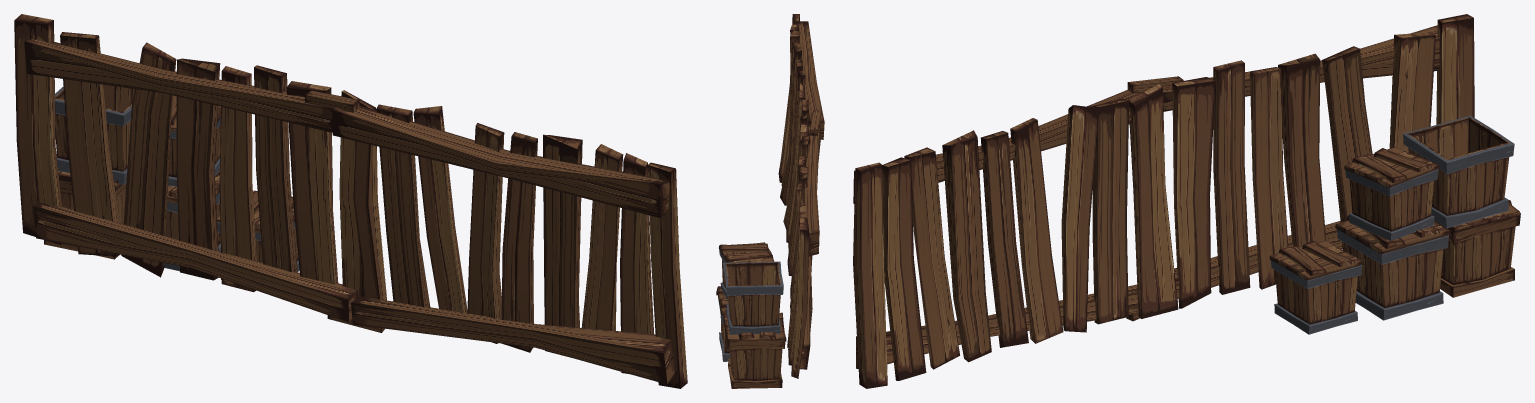
Rendered from RoomWoodDecorations.fbx.
3 views of the same model, side by side, from view 1: azimuth 30°, elevation 25°; view 2: azimuth 150°, elevation 25°; view 3: azimuth 270°, elevation 25° (orthographic). The views are drawn at different scales.
Parts seen in each view (by area): view 1: SM_PROP_woodbridge_dungeon_10.003, SM_PROP_box_dungeon_02.002; view 2: SM_PROP_woodbridge_dungeon_10.003, SM_PROP_box_dungeon_02.002; view 3: SM_PROP_woodbridge_dungeon_10.003, SM_PROP_box_dungeon_02.002.
Part boxes in pixels (<box>): SM_PROP_woodbridge_dungeon_10.003: <box>14,14,687,388</box>; SM_PROP_box_dungeon_02.002: <box>44,84,299,279</box>; SM_PROP_woodbridge_dungeon_10.003: <box>778,14,824,378</box>; SM_PROP_box_dungeon_02.002: <box>716,242,786,388</box>; SM_PROP_woodbridge_dungeon_10.003: <box>853,14,1474,388</box>; SM_PROP_box_dungeon_02.002: <box>1269,115,1520,334</box>.
Size of the model in its own units: 4.42 by 2.91 by 7.45.
3 materials, 3 textured.
